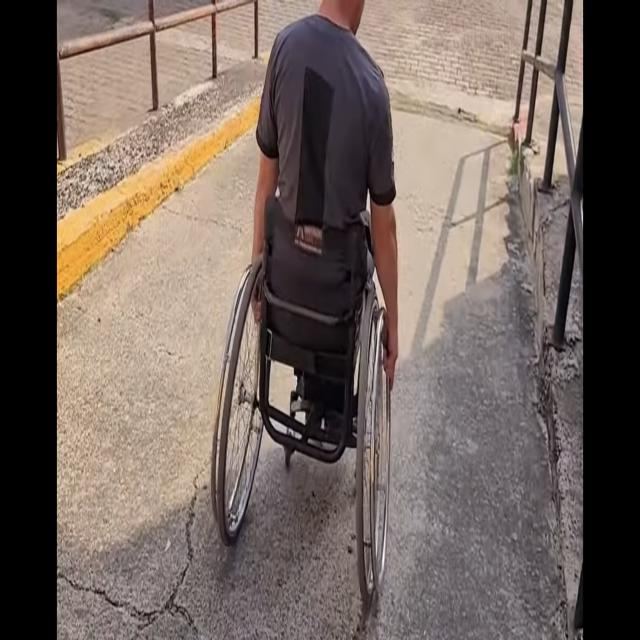wheelchairs: (208, 186, 394, 624)
